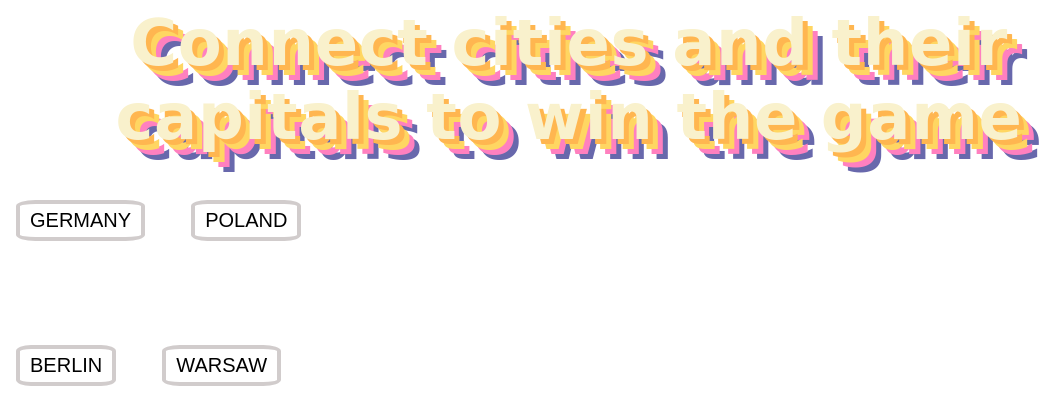
Test case: CountriesCapitalsButtons › should disapear if capital and country are correct
The image size is (1056, 403).
Click the button "Berlin" at (66, 365), box [16,345,116,386]
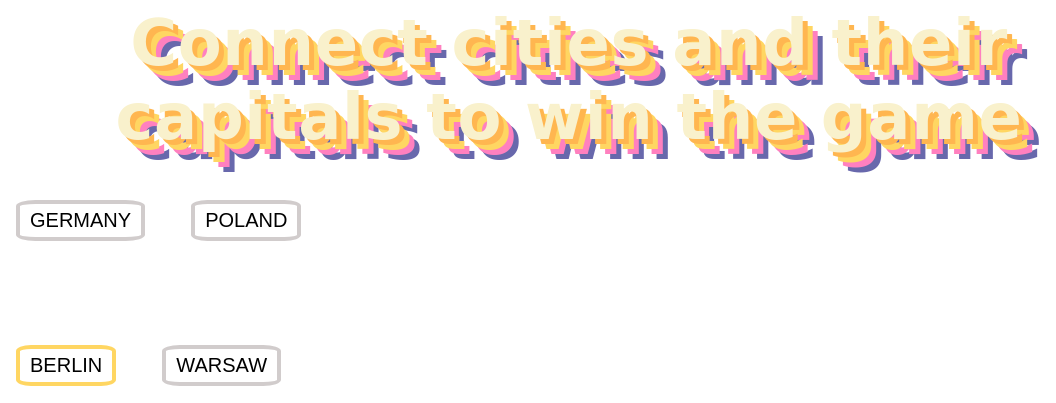
Click the button "Germany" at (81, 220), box [16,200,145,241]
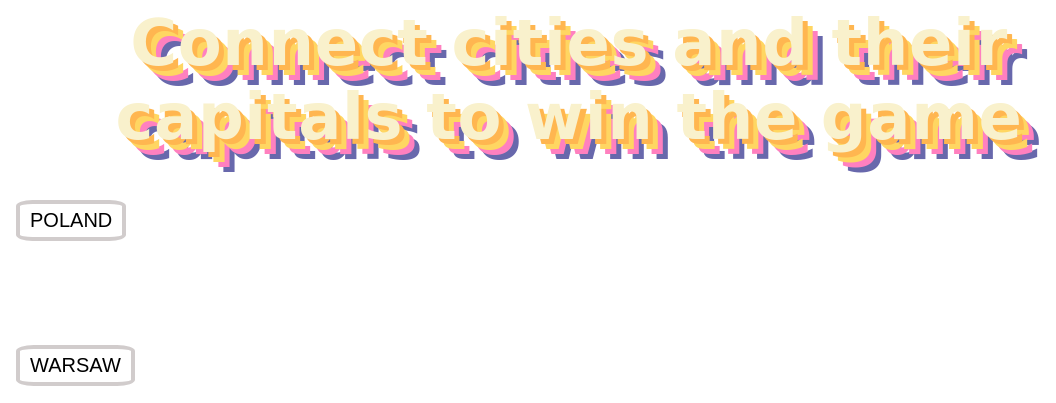
Result: the button "Berlin" is gone
Result: the button "Germany" is gone
